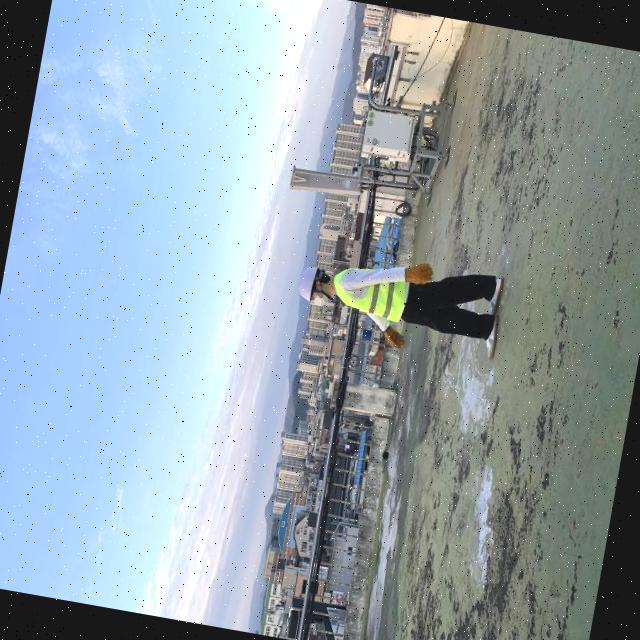helmet: (281, 244, 342, 320), (289, 259, 324, 306)
no-boots: (480, 274, 508, 320), (477, 316, 502, 362)
vest: (328, 254, 418, 320)
